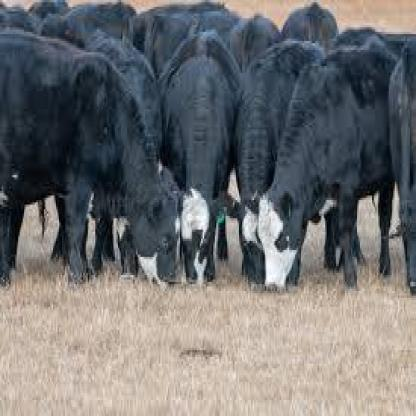cow: (0, 31, 180, 283), (258, 32, 402, 286), (219, 38, 333, 288), (158, 33, 244, 288), (395, 35, 416, 288)
